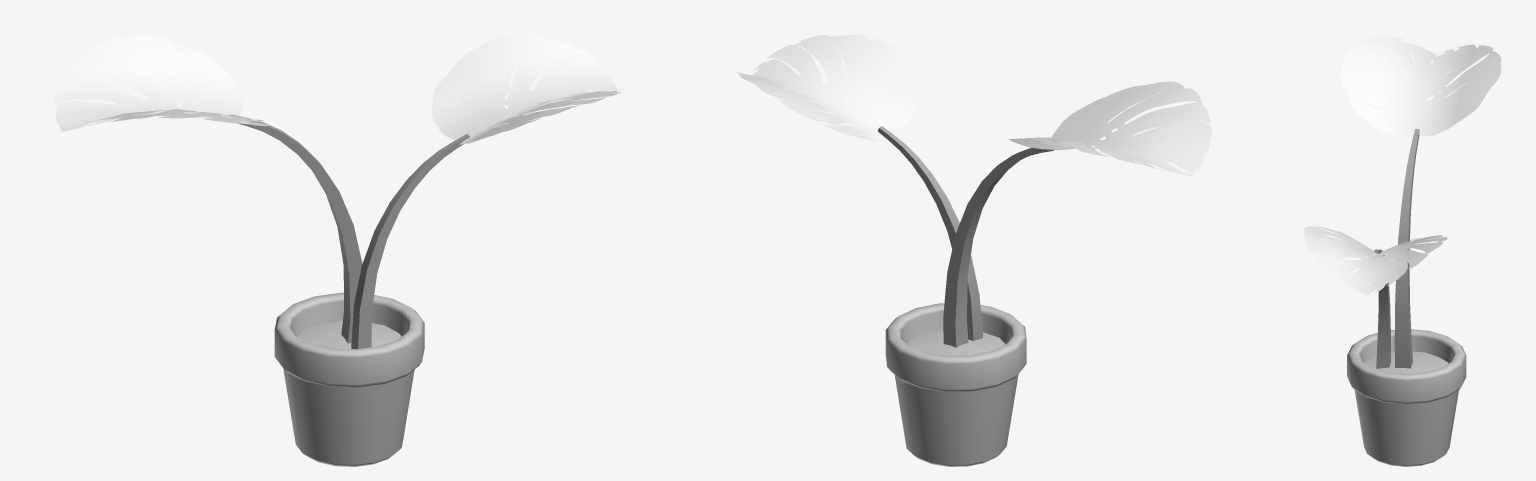
File: Monstera.fbx
3 renders of one model, left to right at view 1: azimuth 30°, elevation 25°; view 2: azimuth 150°, elevation 25°; view 3: azimuth 270°, elevation 25°, orthographic. The views are drawn at different scales.
Parts seen in each view (by area): view 1: Pot, Leaf2, Leaf3; view 2: Pot, Leaf2, Leaf3; view 3: Leaf3, Pot, Leaf2.
Boxes of the visible parts, box(x1,y1,x2,y2) form: Pot: box(274, 292, 424, 466); Leaf2: box(351, 34, 624, 349); Leaf3: box(53, 34, 362, 343); Pot: box(885, 303, 1026, 466); Leaf2: box(736, 34, 982, 340); Leaf3: box(943, 81, 1211, 347); Leaf3: box(1340, 36, 1501, 368); Pot: box(1347, 329, 1466, 466); Leaf2: box(1303, 226, 1447, 368).
Size of the model in its own units: 2.27 by 1.65 by 1.05.
